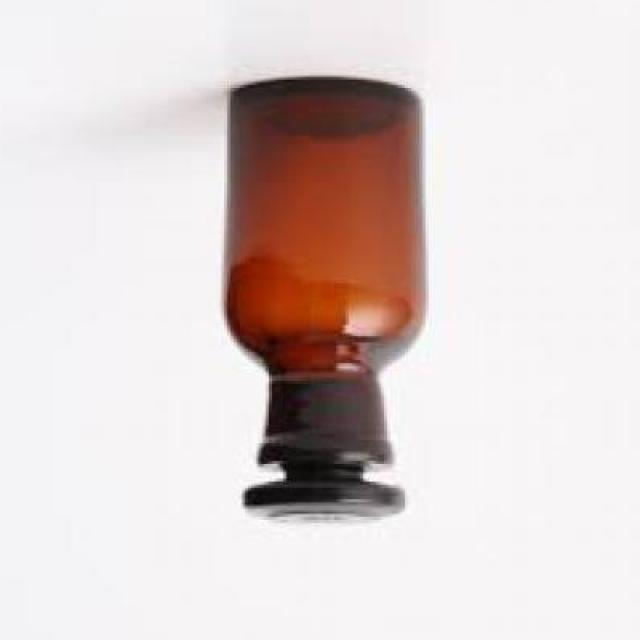kaca: (228, 76, 426, 522)
